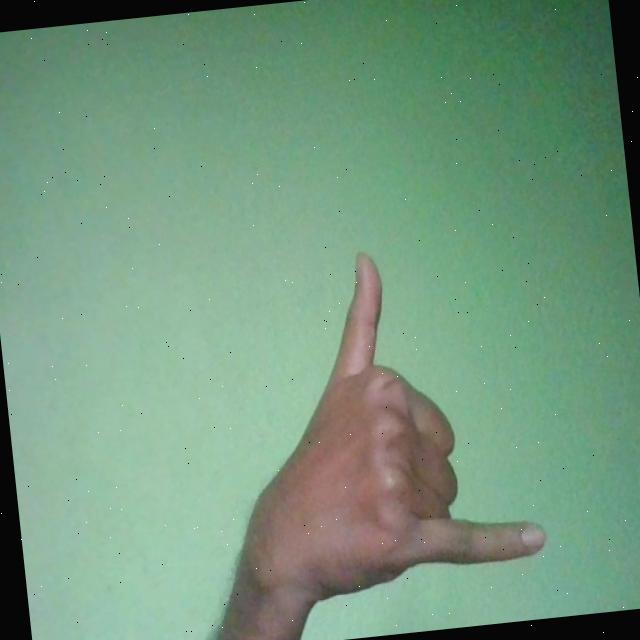Call Me: (211, 236, 551, 609)
